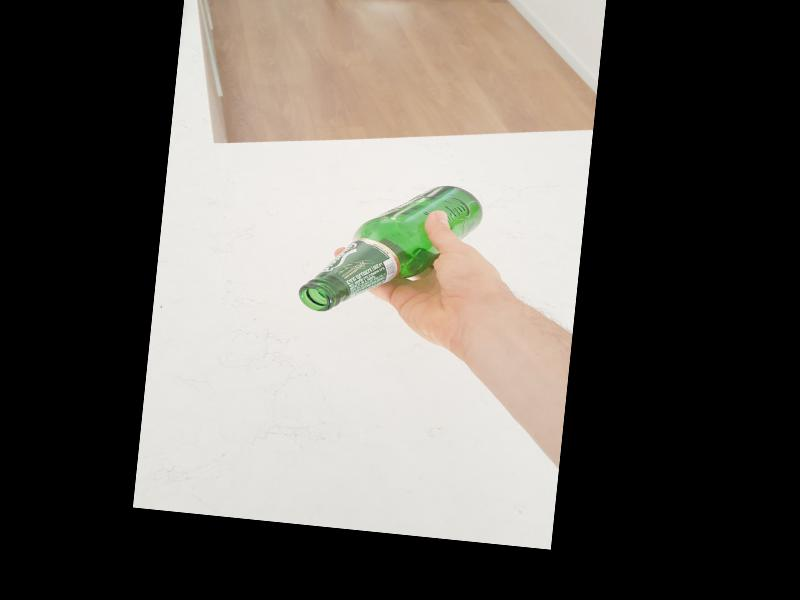Beer: (295, 172, 483, 328)
